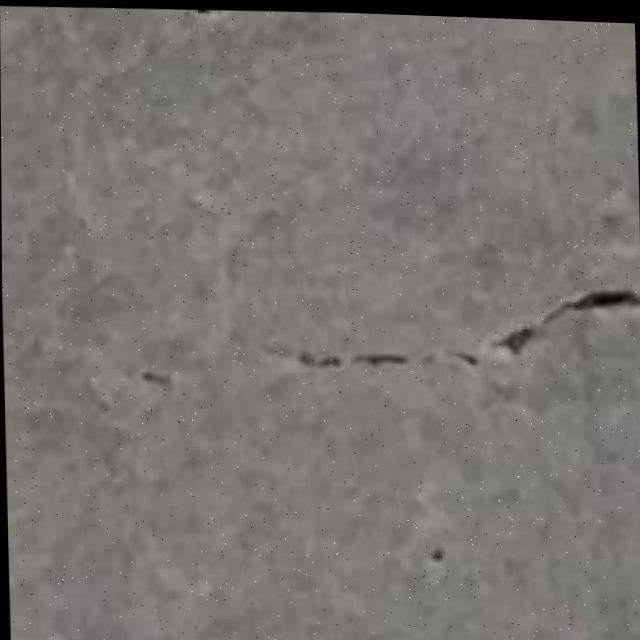Crack: (126, 251, 640, 410)
